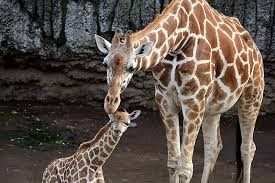Jirafa: (82, 21, 142, 114)
